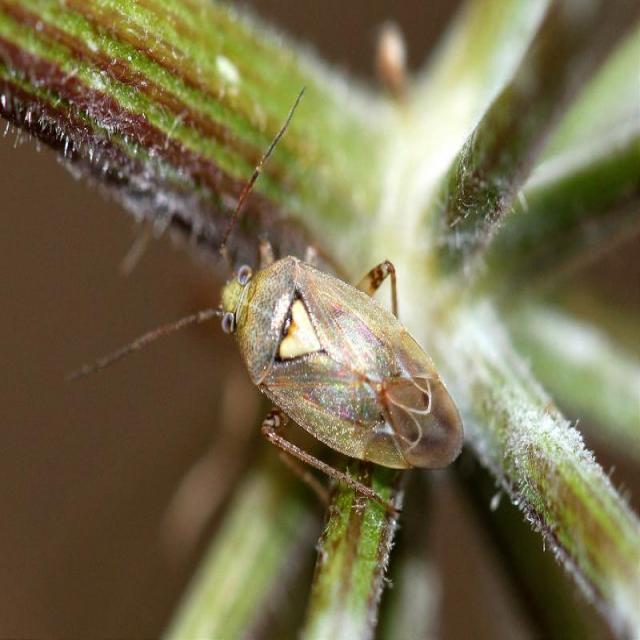Miridae-Adult-: (61, 71, 463, 522)
